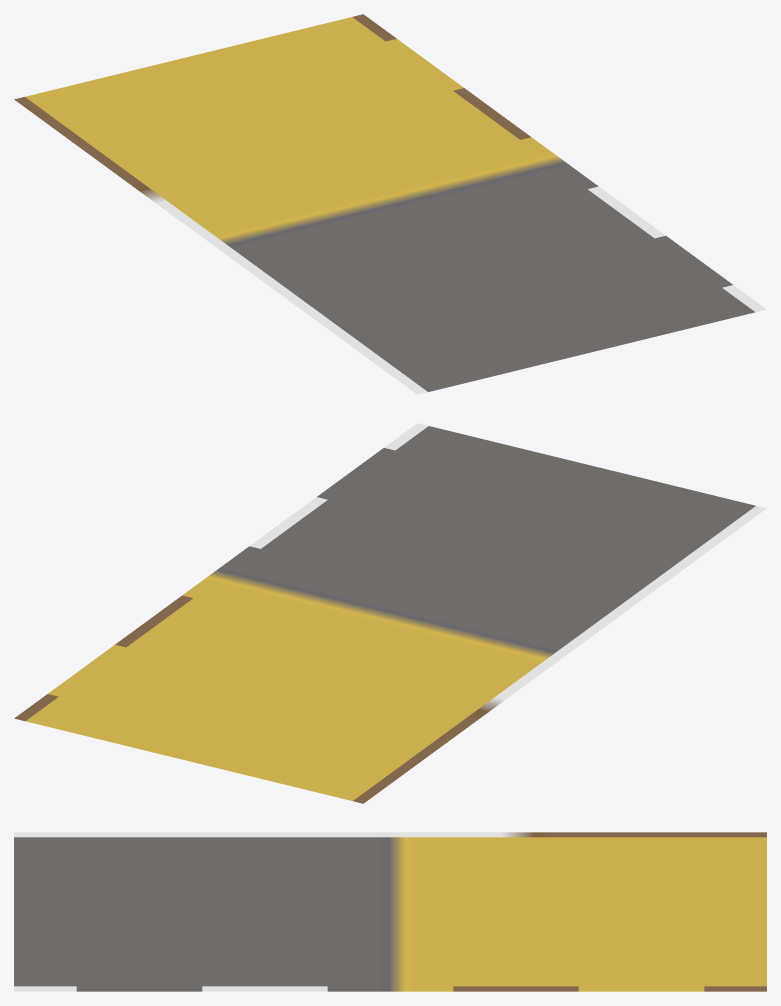
3 views of the same model, one above another, from view 1: azimuth 30°, elevation 25°; view 2: azimuth 150°, elevation 25°; view 3: azimuth 270°, elevation 25° (orthographic). The views are drawn at different scales.
Parts seen in each view (by area): view 1: road1; view 2: road1; view 3: road1.
Boxes of the visible parts, left/top/right/bottom form: road1: left=14, top=14, right=766, bottom=394; road1: left=14, top=423, right=766, bottom=803; road1: left=14, top=832, right=766, bottom=991.
Size of the model in its own units: 600 by 0 by 1200.
